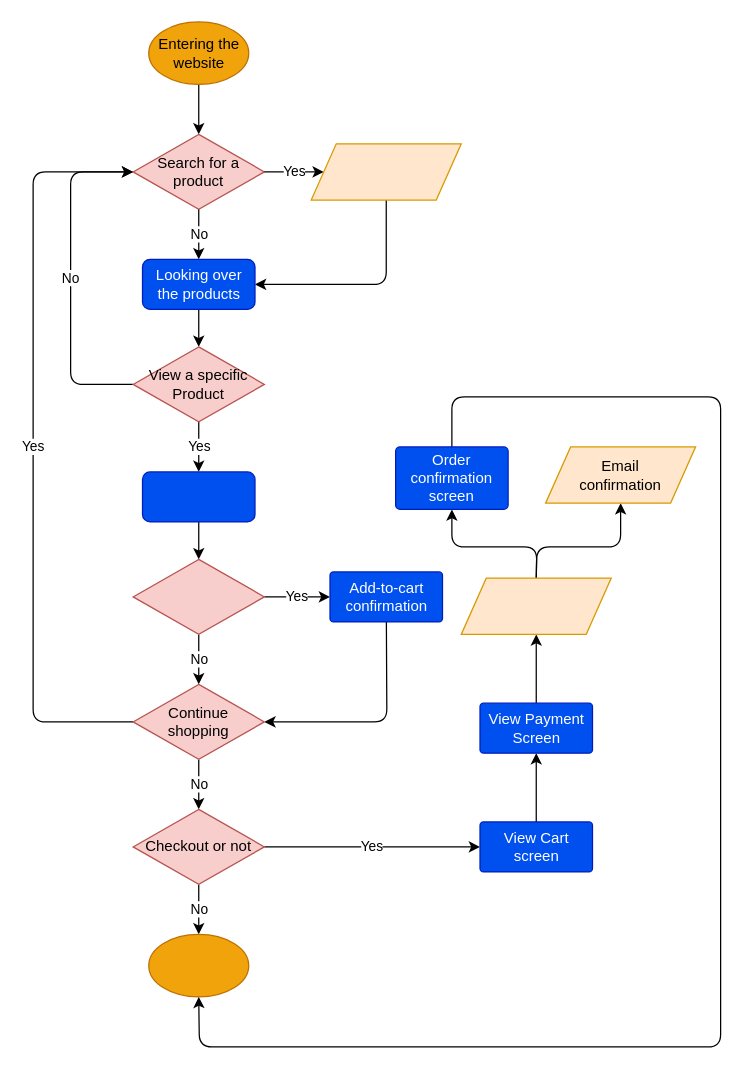
This 753x1079 diagram has some shape labels left out. Each missing label, with the centre of its shape:
"Add to cart" goes at point (198, 596).
"Give input for payment info" goes at point (535, 605).
"Leave website" goes at point (198, 965).
"Product's webpage open" goes at point (198, 496).
"Provide input for search" goes at point (385, 171).
